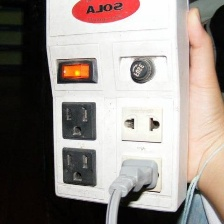three_eye_plug: (41, 0, 194, 215)
